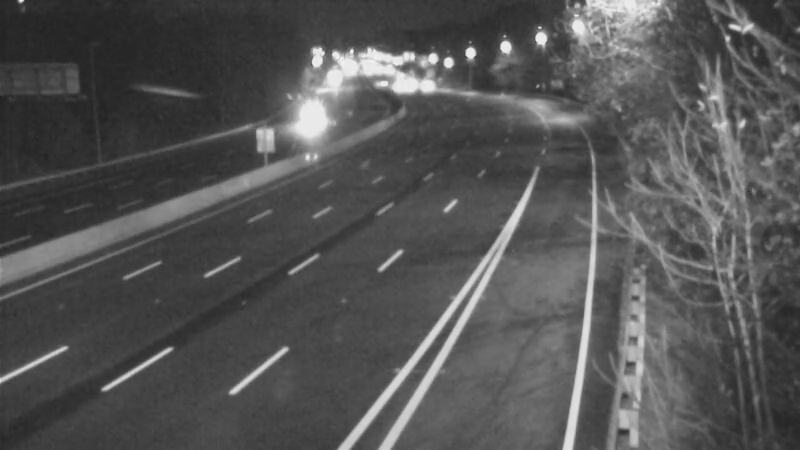vehicle: (290, 86, 340, 136)
